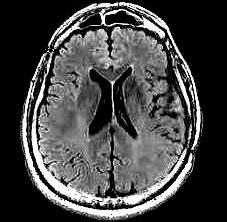Normal_Brain: (7, 3, 227, 222)
